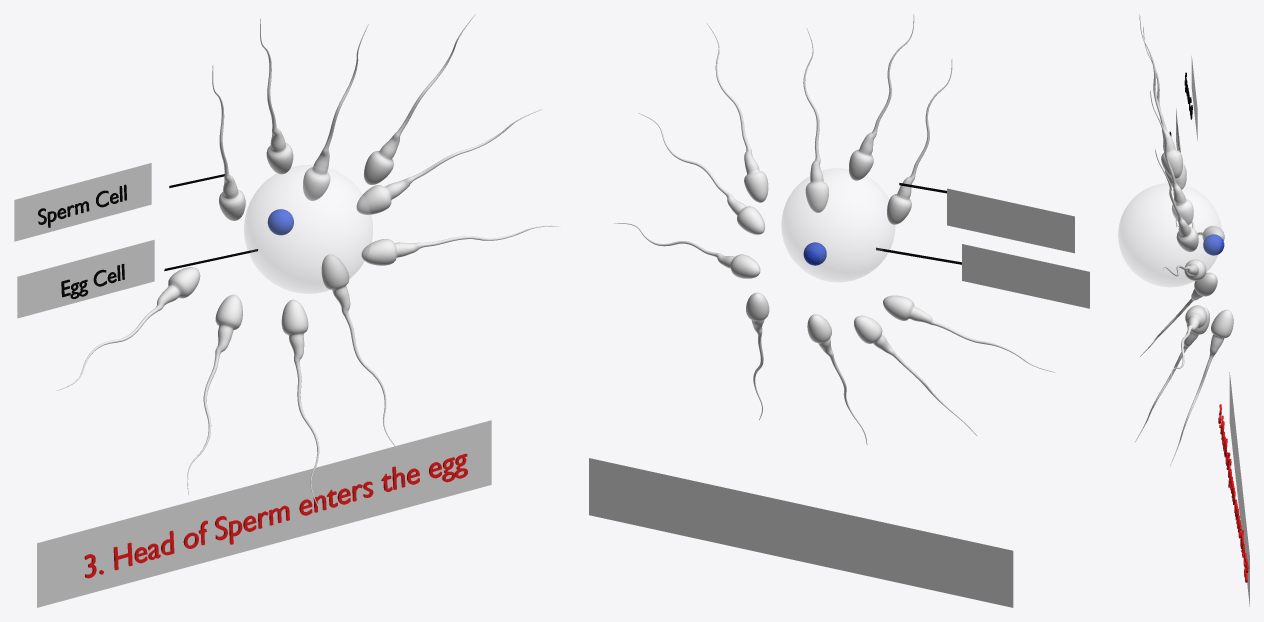
3 views of the same model, side by side, from view 1: azimuth 30°, elevation 25°; view 2: azimuth 150°, elevation 25°; view 3: azimuth 270°, elevation 25° (orthographic). The views are drawn at different scales.
Parts seen in each view (by area): view 1: Plane.149, Object_2.500, Plane.148, Plane.146, Text.082, Sperm_Sperm_0.040, Sperm_Sperm_0.038, Sperm_Sperm_0.033, Sperm_Sperm_0.039, Sperm_Sperm_0.035, Sperm_Sperm_0.032, Sperm_Sperm_0.034 (+4 smaller); view 2: Plane.149, Object_2.500, Plane.146, Plane.148, Sperm_Sperm_0.037, Sperm_Sperm_0.032, Sperm_Sperm_0.034, Sperm_Sperm_0.036, Sperm_Sperm_0.031, Sperm_Sperm_0.033, Sperm_Sperm_0.039, Sperm_Sperm_0.035 (+2 smaller); view 3: Object_2.500, Plane.149, Sperm_Sperm_0.038, Sperm_Sperm_0.036, Text.082, Sperm_Sperm_0.037, Sperm_Sperm_0.032, Sperm_Sperm_0.039, Sperm_Sperm_0.035, Sperm_Sperm_0.040, Sperm_Sperm_0.033, Sperm_Sperm_0.031 (+3 smaller).
Part boxes in pixels (x1,y1,x2,y2): Plane.149: [37, 420, 491, 607]; Object_2.500: [244, 165, 372, 293]; Plane.148: [17, 239, 154, 318]; Plane.146: [14, 163, 151, 241]; Text.082: [84, 453, 467, 578]; Sperm_Sperm_0.040: [281, 299, 319, 509]; Sperm_Sperm_0.038: [321, 254, 397, 449]; Sperm_Sperm_0.033: [356, 109, 542, 214]; Sperm_Sperm_0.039: [187, 294, 242, 495]; Sperm_Sperm_0.035: [361, 225, 560, 265]; Sperm_Sperm_0.032: [363, 14, 475, 184]; Sperm_Sperm_0.034: [56, 267, 200, 390]; Plane.149: [589, 458, 1013, 607]; Object_2.500: [781, 168, 894, 281]; Plane.146: [947, 188, 1074, 253]; Plane.148: [962, 244, 1089, 308]; Sperm_Sperm_0.037: [803, 28, 828, 212]; Sperm_Sperm_0.032: [707, 23, 768, 202]; Sperm_Sperm_0.034: [883, 295, 1055, 372]; Sperm_Sperm_0.036: [849, 14, 914, 180]; Sperm_Sperm_0.031: [887, 58, 952, 224]; Sperm_Sperm_0.033: [639, 113, 765, 234]; Sperm_Sperm_0.039: [854, 315, 977, 436]; Sperm_Sperm_0.035: [614, 223, 760, 278]; Object_2.500: [1118, 183, 1221, 286]; Plane.149: [1229, 372, 1249, 606]; Sperm_Sperm_0.038: [1170, 309, 1233, 466]; Sperm_Sperm_0.036: [1139, 14, 1182, 178]; Text.082: [1218, 404, 1248, 582]; Sperm_Sperm_0.037: [1150, 90, 1193, 224]; Sperm_Sperm_0.032: [1155, 149, 1198, 251]; Sperm_Sperm_0.039: [1140, 272, 1217, 356]; Sperm_Sperm_0.035: [1171, 305, 1206, 382]; Sperm_Sperm_0.040: [1135, 307, 1209, 441]; Sperm_Sperm_0.033: [1163, 259, 1206, 280]; Sperm_Sperm_0.031: [1143, 26, 1186, 189].
Bounding box in the file's own units: 3.19 × 3.33 × 0.835.
7 materials, 1 textured.
